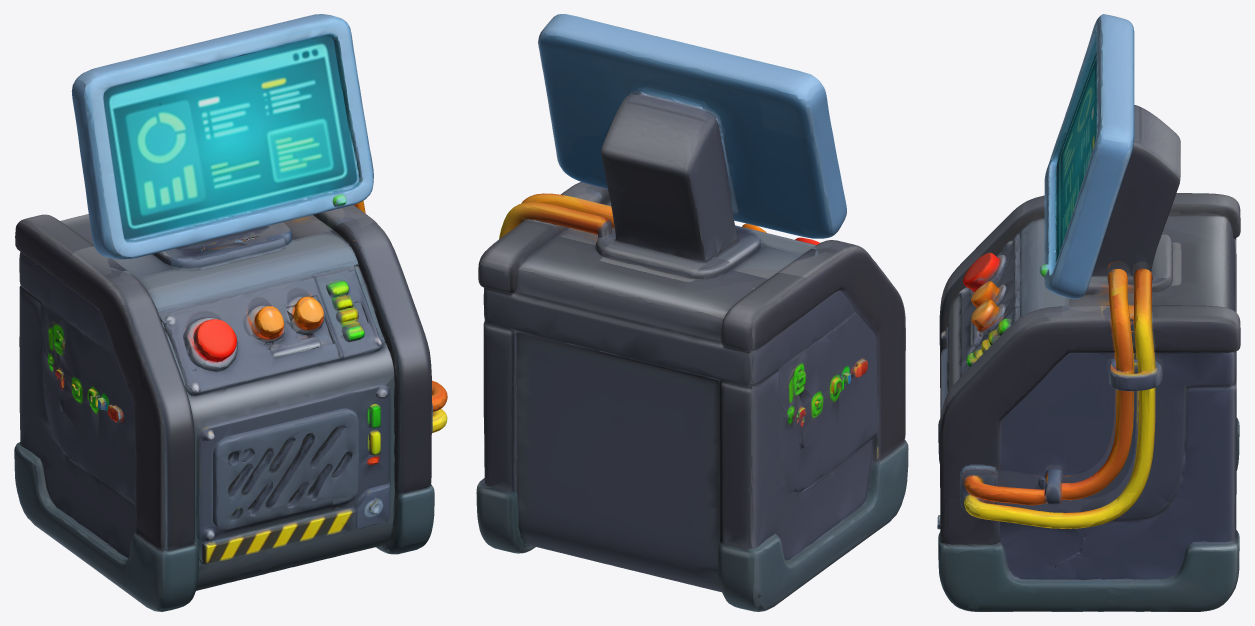
The model's file is processor.glb.
3 views of the same model, side by side, from view 1: azimuth 30°, elevation 25°; view 2: azimuth 150°, elevation 25°; view 3: azimuth 270°, elevation 25° (orthographic). The views are drawn at different scales.
Parts seen in each view (by area): view 1: geometry_0; view 2: geometry_0; view 3: geometry_0.
Part boxes in pixels (x1,y1,x2,y2): geometry_0: [14, 14, 447, 611]; geometry_0: [476, 14, 908, 611]; geometry_0: [937, 14, 1240, 611].
Bounding box in the file's own units: 0.4044 × 0.6 × 0.3453.
Materials: 1 (1 with a texture image).
